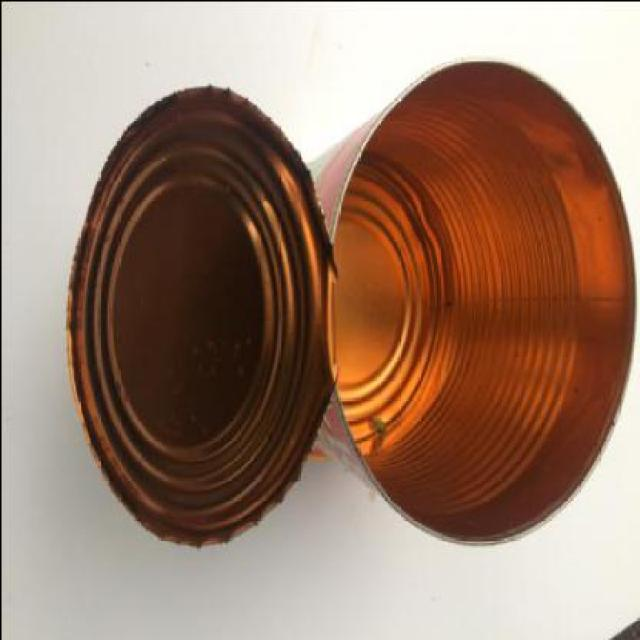METAL: (331, 60, 638, 548), (64, 85, 336, 547)
